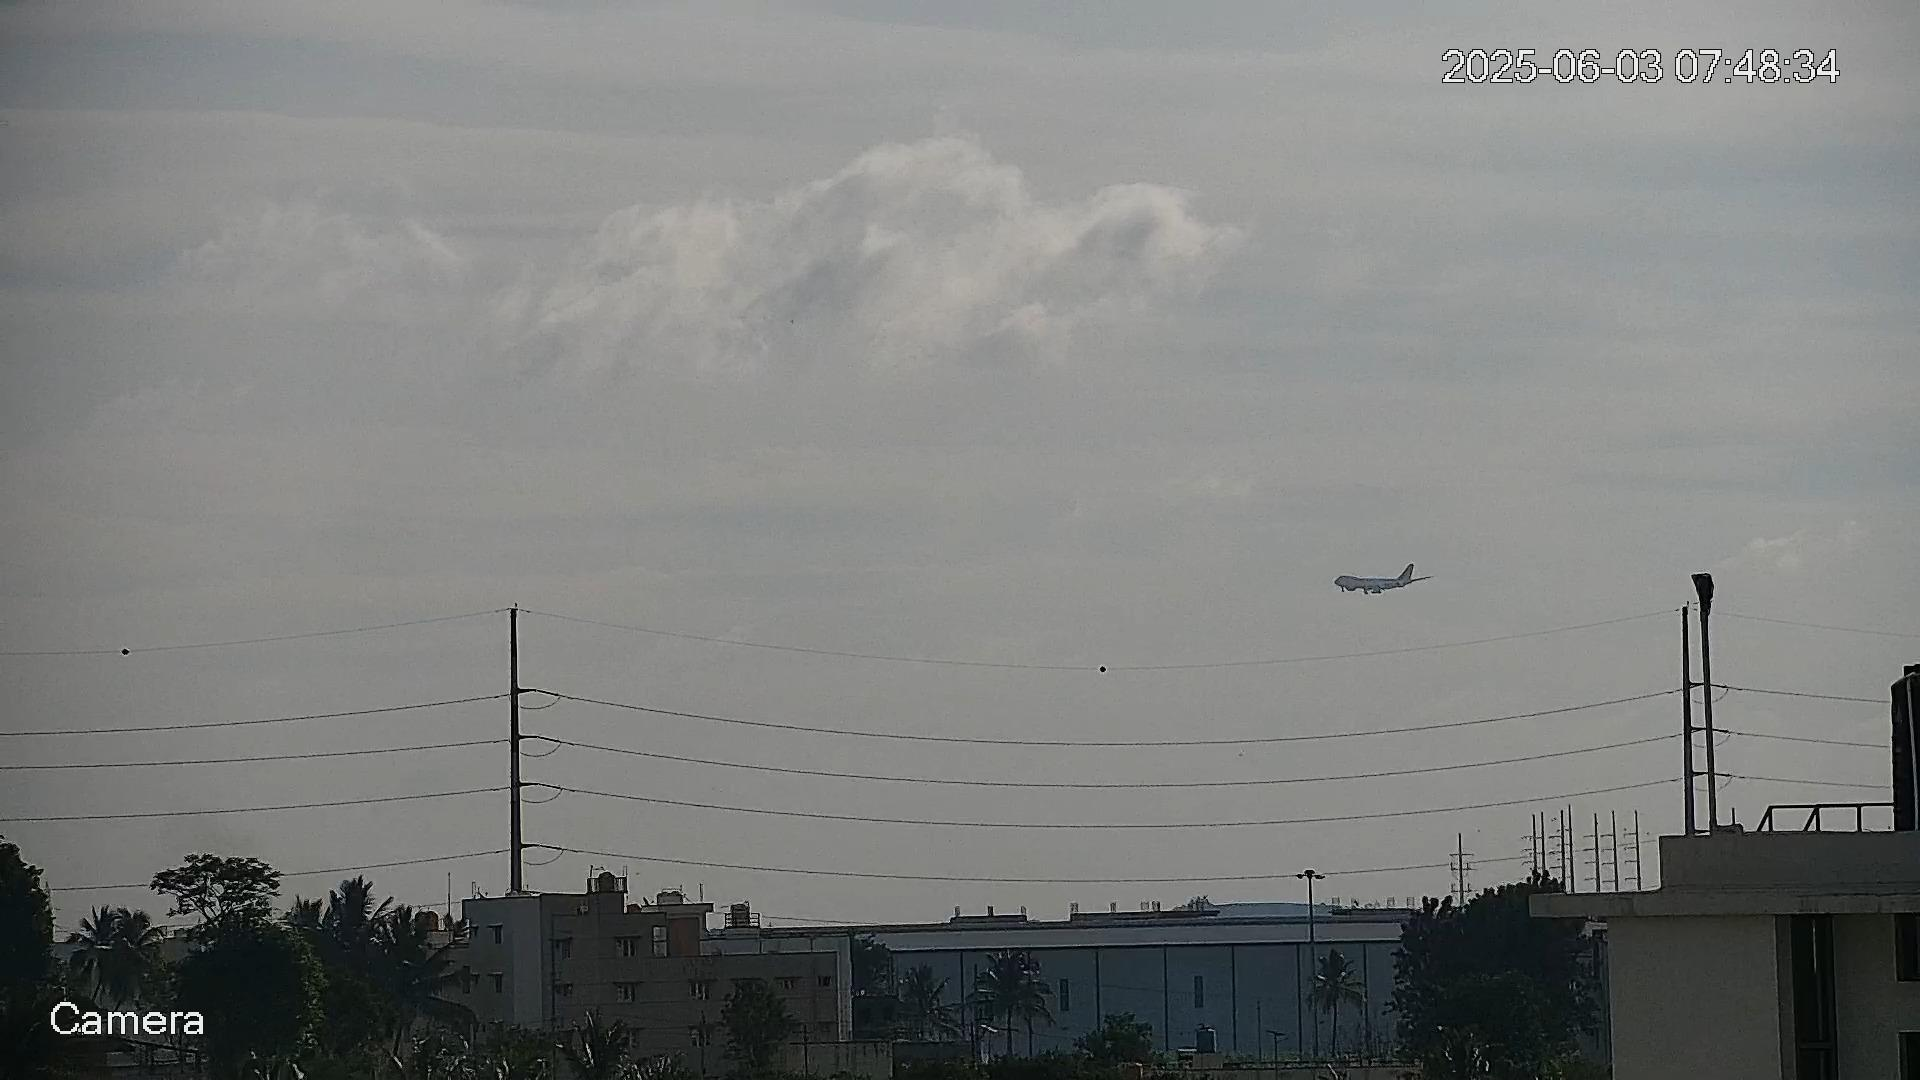Aircraft: (1333, 563, 1436, 595)
